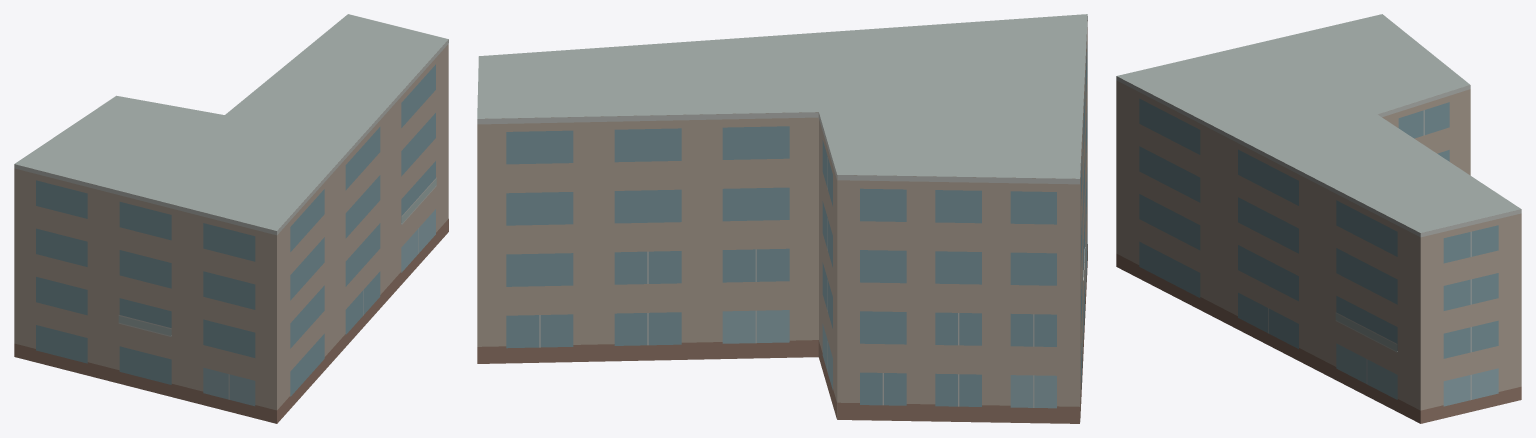
Rendered from survey-upis-32961008.glb.
3 renders of one model, left to right at view 1: azimuth 30°, elevation 25°; view 2: azimuth 150°, elevation 25°; view 3: azimuth 270°, elevation 25°, orthographic. The views are drawn at different scales.
Parts seen in each view (by area): view 1: survey-upis-32961008.tmp; view 2: survey-upis-32961008.tmp; view 3: survey-upis-32961008.tmp.
Boxes of the visible parts, x1=… form: survey-upis-32961008.tmp: x1=14, y1=14, x2=448, y2=423; survey-upis-32961008.tmp: x1=477, y1=14, x2=1087, y2=423; survey-upis-32961008.tmp: x1=1116, y1=14, x2=1521, y2=423.
Size of the model in its own units: 26.86 by 10.9 by 20.99.
